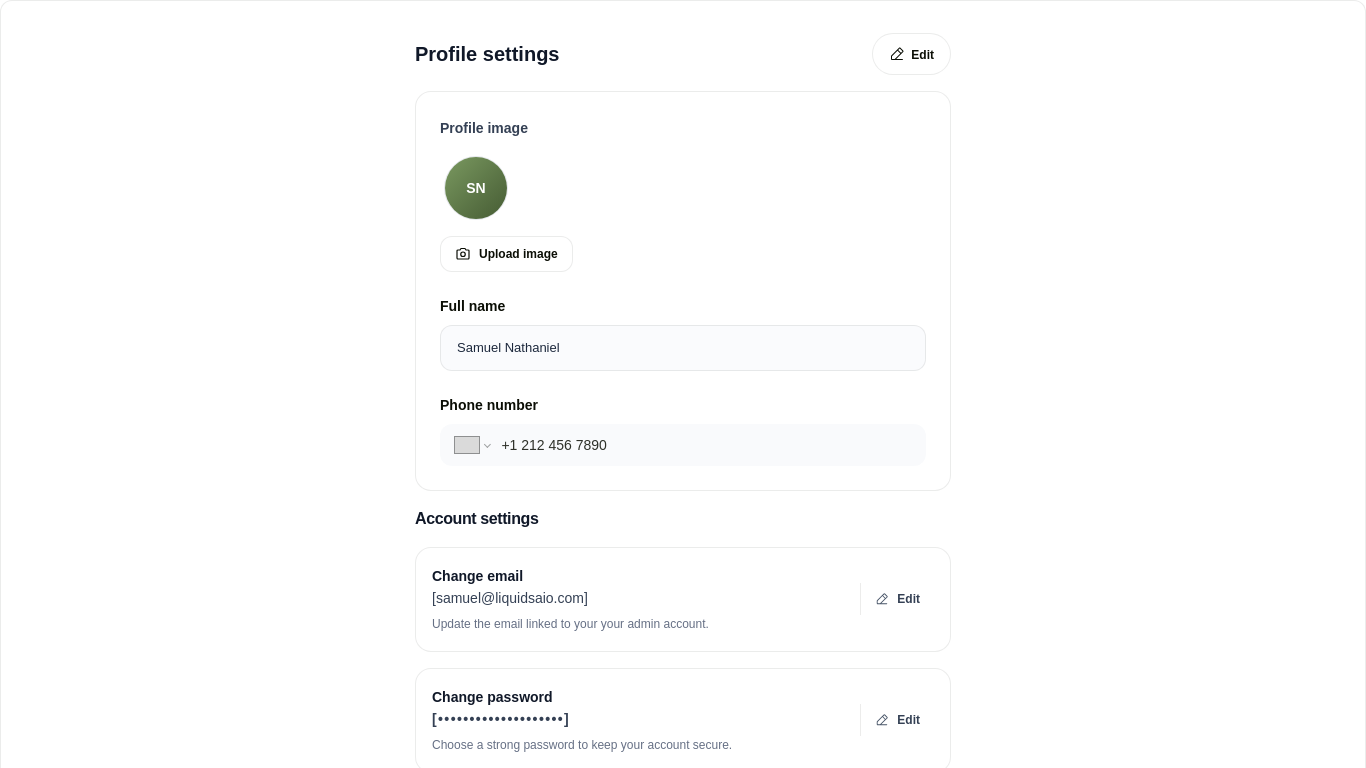
Test: ProfileSettings › returns to Edit without posting when Save is clicked with no changes
The width and height of the screenshot is (1366, 768).
Expected: the field showing "Samuel Nathaniel" is shown, [441, 326, 925, 370]
Click the button with aria-label "Edit profile settings" at (912, 54), box [872, 33, 951, 75]
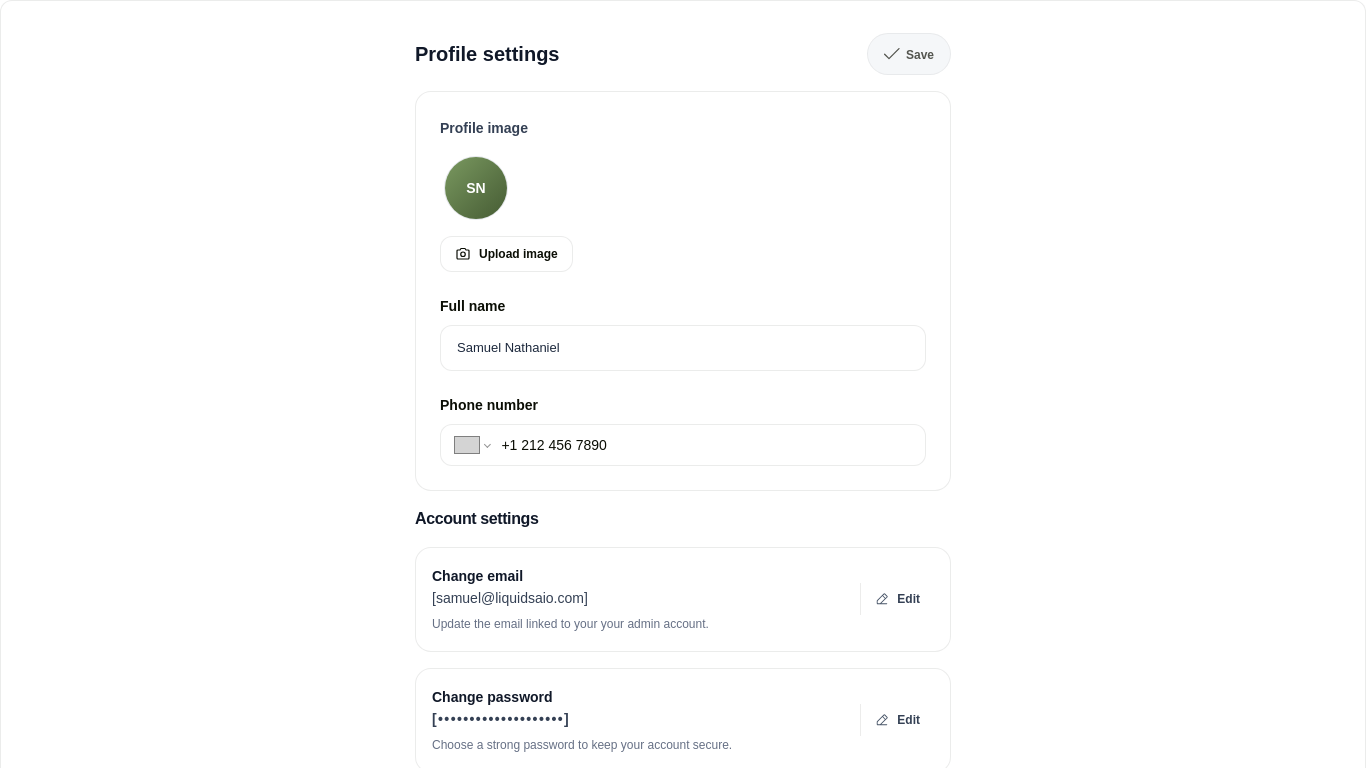
Click the button with aria-label "Save profile settings" at (909, 54), box [867, 33, 951, 75]
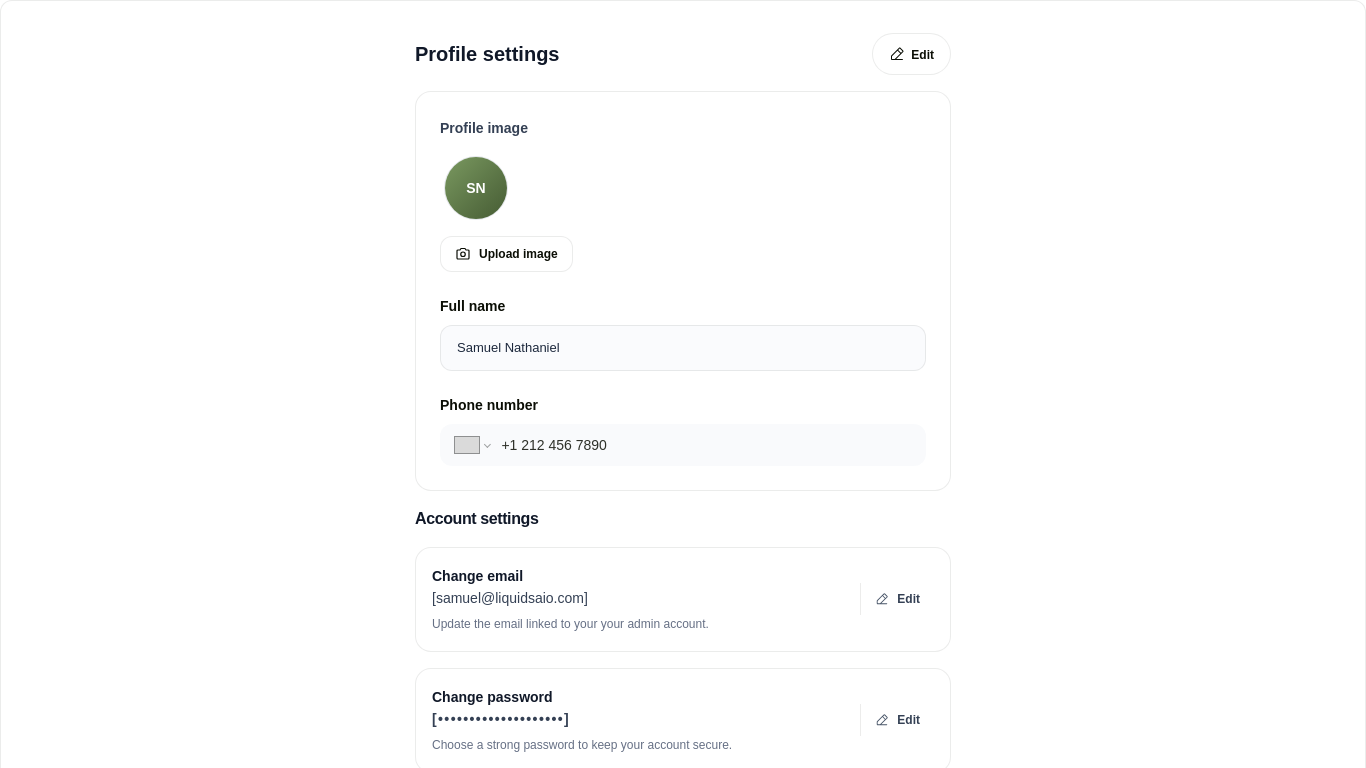
Expected: the field showing "Samuel Nathaniel" is disabled, [441, 326, 925, 370]
Result: the button with aria-label "Edit profile settings" is shown at [872, 33, 951, 75]
